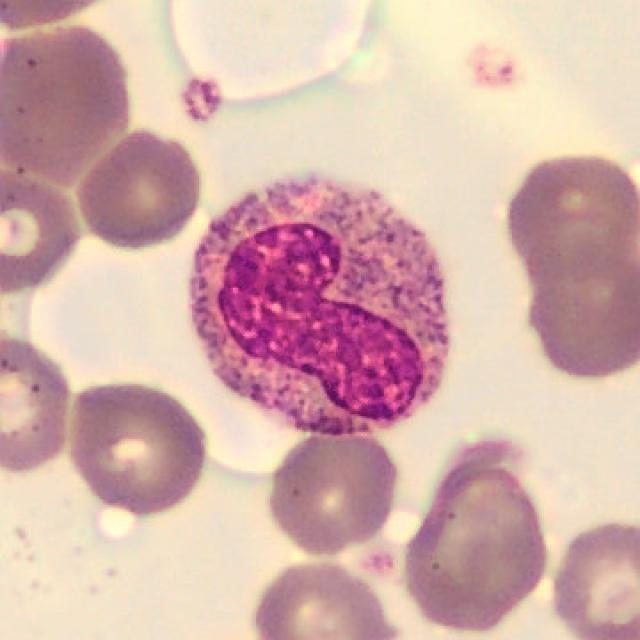Metamielocito: (187, 172, 452, 439)
